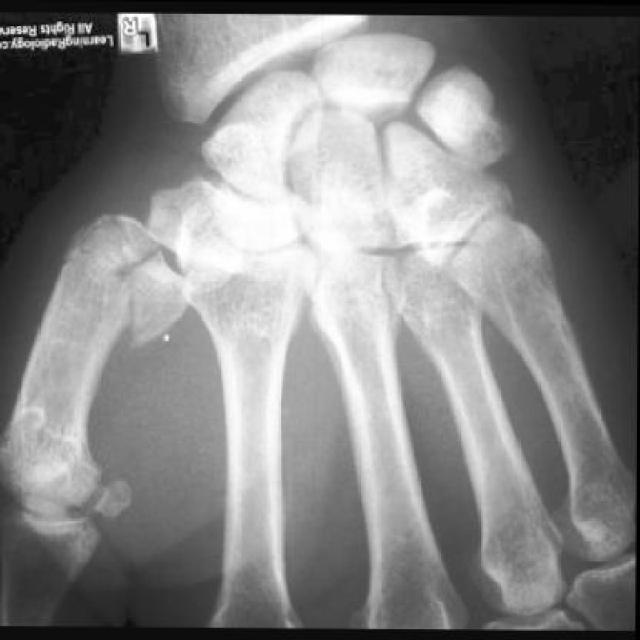Fracture: (59, 211, 197, 351)
